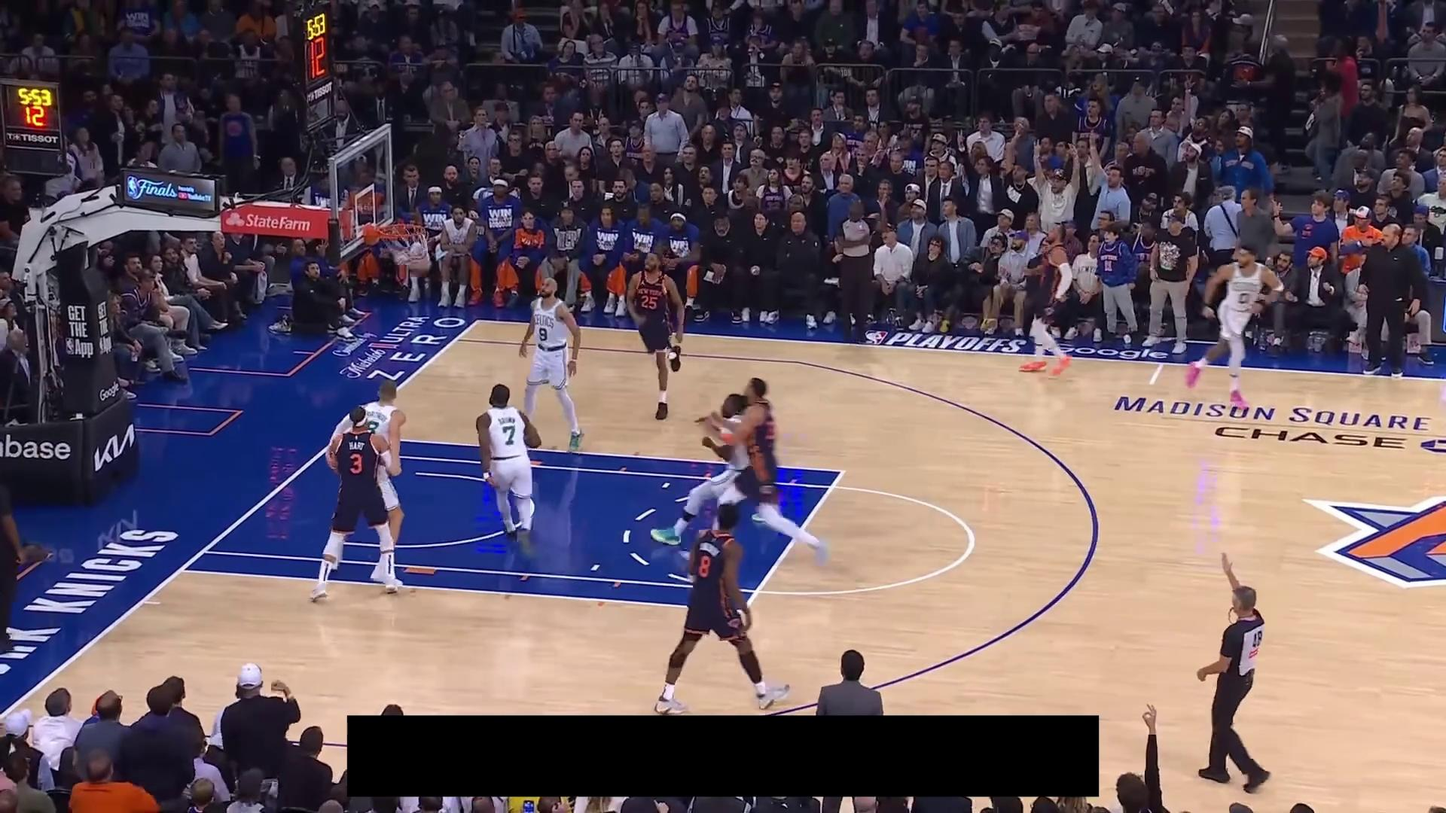ball: (407, 251, 432, 277)
ball-in-basket: (378, 222, 432, 276)
number: (698, 554, 712, 578), (349, 452, 363, 475), (502, 425, 516, 446), (640, 294, 658, 310), (365, 419, 380, 435), (1237, 291, 1250, 306), (538, 326, 548, 342)
player: (652, 501, 795, 715), (703, 375, 832, 569), (648, 391, 768, 548), (308, 406, 401, 603), (324, 378, 408, 587), (1185, 243, 1287, 409), (517, 276, 586, 452), (476, 384, 542, 558), (624, 248, 686, 422), (1017, 221, 1074, 376)
referee: (1194, 550, 1271, 794), (833, 199, 886, 344), (0, 449, 26, 653)
rim: (377, 223, 428, 239)
